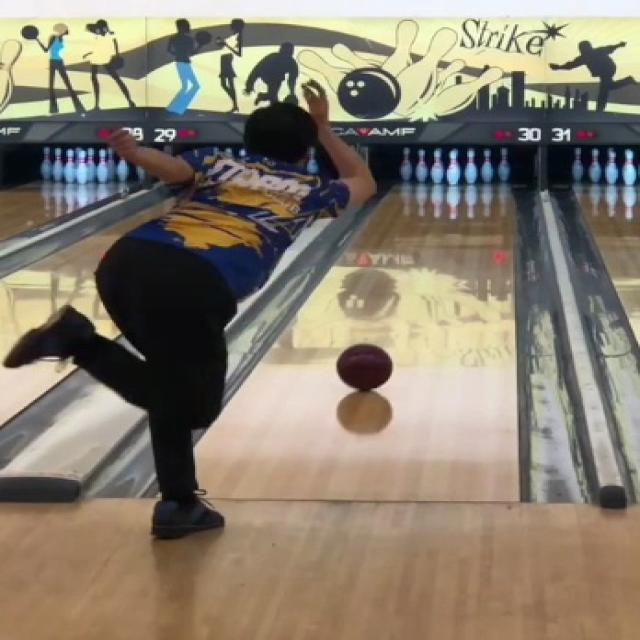alley: (197, 186, 517, 500)
balls: (337, 344, 392, 391)
bottle: (399, 148, 511, 186)
